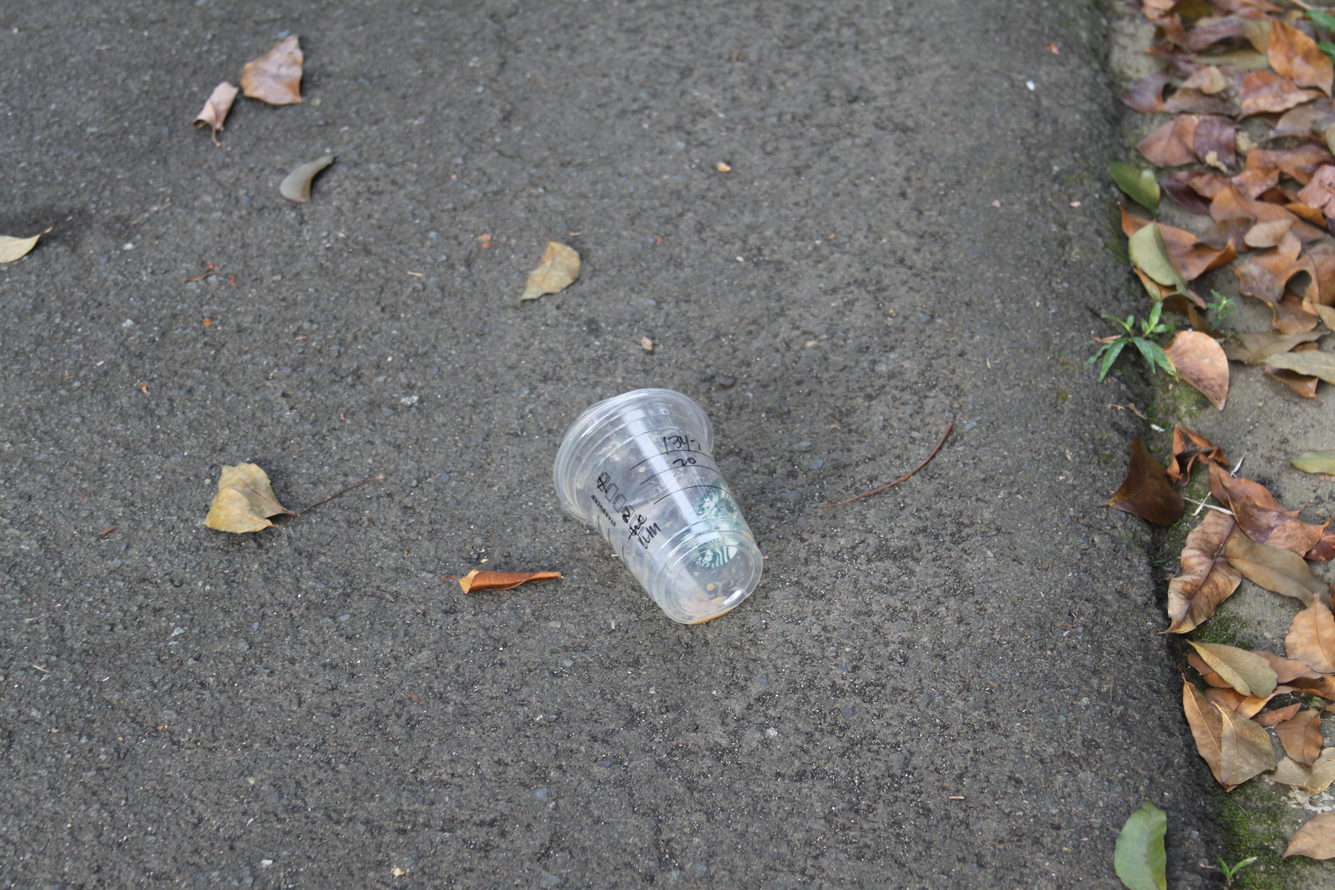Plastic: (550, 385, 767, 628)
